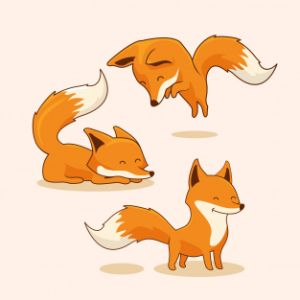fox: (85, 171, 249, 270), (106, 30, 276, 119), (33, 71, 156, 186)
